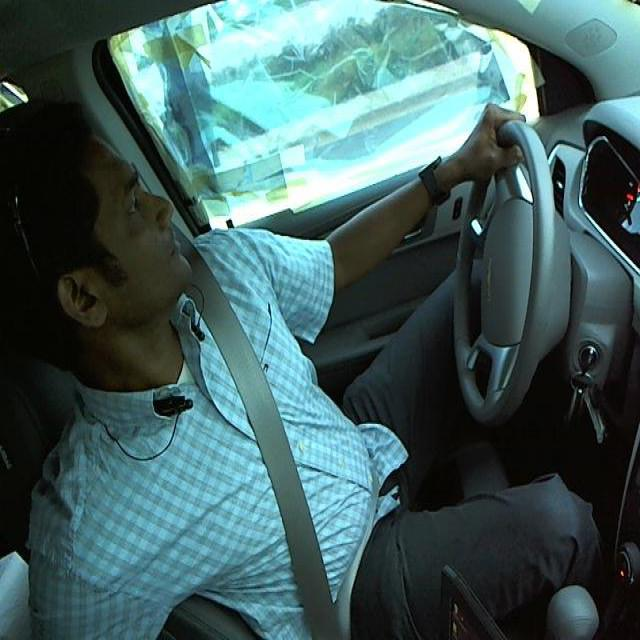seatbelt: (181, 288, 344, 633)
